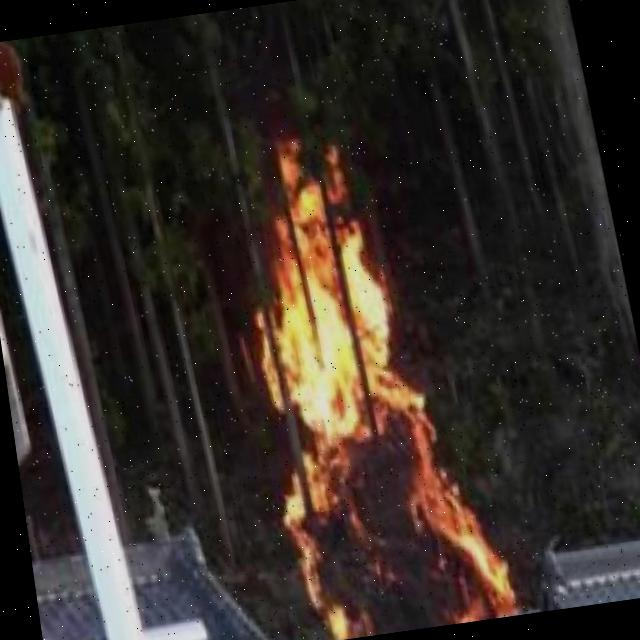fire: (232, 136, 515, 640)
